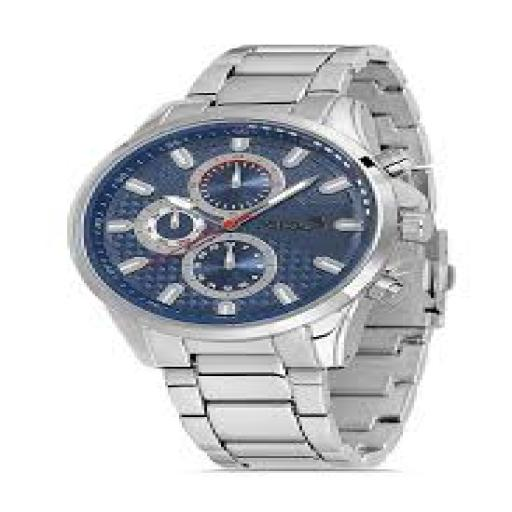KolSaati: (30, 10, 505, 473)
